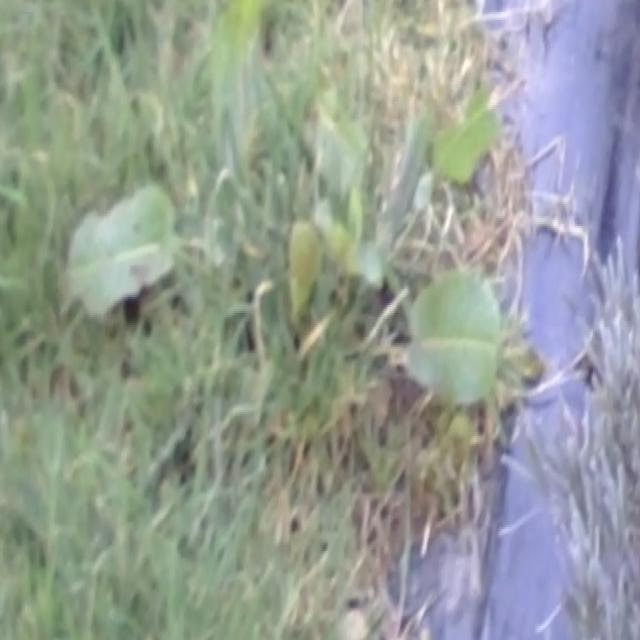organic waste: (182, 14, 556, 433), (42, 145, 194, 340)
